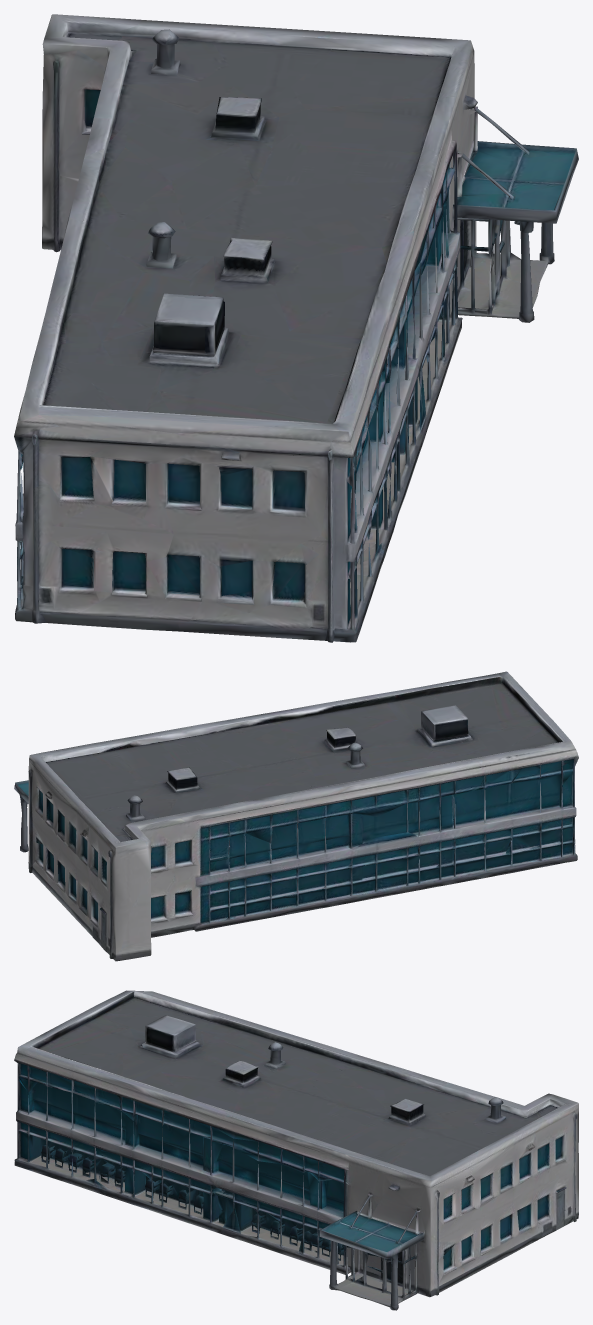
Rendered from small_terminal.glb.
3 renders of one model, top to bottom at view 1: azimuth 30°, elevation 25°; view 2: azimuth 150°, elevation 25°; view 3: azimuth 270°, elevation 25°, orthographic. The views are drawn at different scales.
Visible parts, largest first — view 1: tripo_node_d745ff8d-7762-4171-bd60-73ec448fadbe; view 2: tripo_node_d745ff8d-7762-4171-bd60-73ec448fadbe; view 3: tripo_node_d745ff8d-7762-4171-bd60-73ec448fadbe.
Part boxes in pixels (x1,y1,x2,y2): tripo_node_d745ff8d-7762-4171-bd60-73ec448fadbe: [14, 14, 578, 642]; tripo_node_d745ff8d-7762-4171-bd60-73ec448fadbe: [14, 671, 578, 961]; tripo_node_d745ff8d-7762-4171-bd60-73ec448fadbe: [14, 990, 578, 1310].
Size of the model in its own units: 0.9445 by 0.2742 by 1.04.
Materials: 1 (1 with a texture image).
